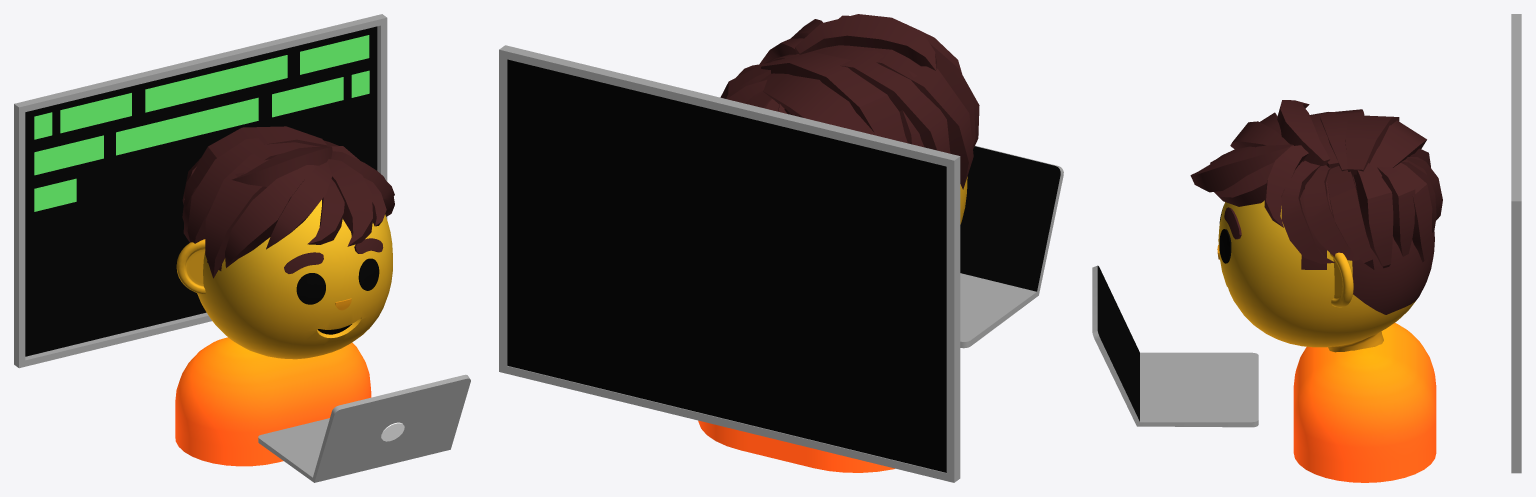
Rendered from technologist.glb.
3 renders of one model, left to right at view 1: azimuth 30°, elevation 25°; view 2: azimuth 150°, elevation 25°; view 3: azimuth 270°, elevation 25°, orthographic. The views are drawn at different scales.
Parts seen in each view (by area): view 1: Plane.060, Cube.1453, Roundcube.116, Sphere.076, Plane.061, Circle.687, Cylinder.100, Circle.689; view 2: Plane.060, Cube.1453, Plane.061, Sphere.076; view 3: Cube.1453, Sphere.076, Roundcube.116, Plane.061, Plane.060, Cylinder.100.
Boxes of the visible parts, left/top/right/bottom form: Plane.060: left=14, top=14, right=387, bottom=368; Cube.1453: left=182, top=126, right=394, bottom=278; Roundcube.116: left=197, top=200, right=392, bottom=359; Sphere.076: left=175, top=337, right=371, bottom=466; Plane.061: left=258, top=374, right=470, bottom=482; Circle.687: left=296, top=258, right=379, bottom=304; Cylinder.100: left=176, top=239, right=205, bottom=294; Circle.689: left=284, top=238, right=383, bottom=273; Plane.060: left=499, top=45, right=960, bottom=482; Cube.1453: left=720, top=14, right=979, bottom=189; Plane.061: left=960, top=145, right=1063, bottom=348; Sphere.076: left=698, top=420, right=894, bottom=472; Cube.1453: left=1190, top=100, right=1442, bottom=269; Sphere.076: left=1293, top=323, right=1436, bottom=482; Roundcube.116: left=1218, top=161, right=1434, bottom=352; Plane.061: left=1092, top=265, right=1258, bottom=427; Plane.060: left=1511, top=14, right=1521, bottom=473; Cylinder.100: left=1330, top=252, right=1353, bottom=307.
Bounding box in the file's own units: 3.11 × 2.55 × 3.01.
2 materials, 2 textured.
